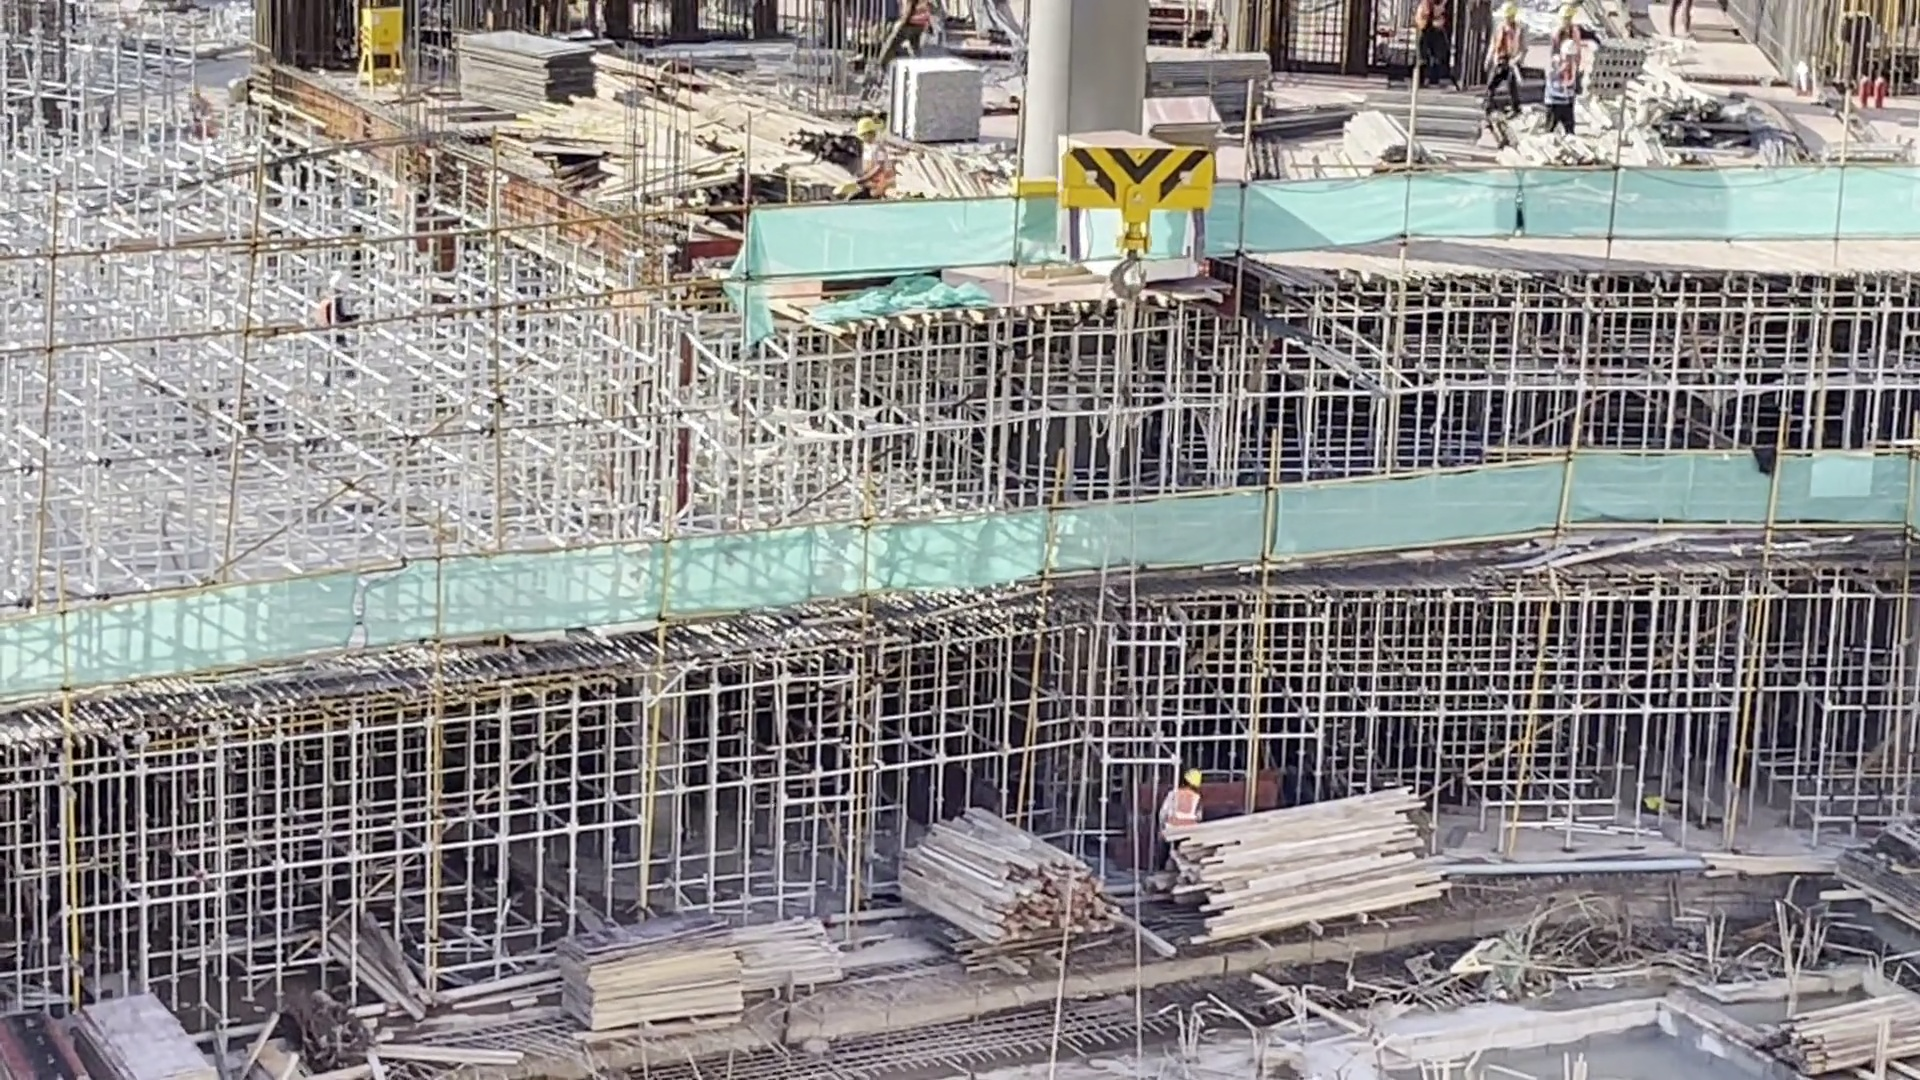board: (551, 908, 749, 1042), (455, 24, 599, 122), (73, 989, 213, 1080), (4, 1004, 91, 1080), (1142, 92, 1222, 151), (1054, 127, 1176, 148)
ebox: (350, 5, 408, 93)
helmet: (330, 272, 351, 296), (1557, 38, 1577, 58), (1184, 767, 1201, 790), (1554, 3, 1577, 18), (1498, 1, 1518, 20)
hook: (1051, 145, 1214, 304)
person: (1479, 1, 1525, 120), (837, 115, 898, 201), (1543, 36, 1580, 138), (1414, 2, 1453, 88), (880, 1, 930, 55), (1176, 767, 1206, 822), (1549, 3, 1584, 45), (1666, 1, 1702, 37)
scaffold: (891, 55, 983, 143)
vest: (1545, 61, 1578, 106), (1491, 23, 1522, 59), (1177, 787, 1200, 820)
wood: (891, 805, 1134, 976), (1167, 817, 1462, 937), (675, 81, 862, 162), (1769, 991, 1920, 1074), (891, 149, 990, 197), (1339, 107, 1407, 163)
